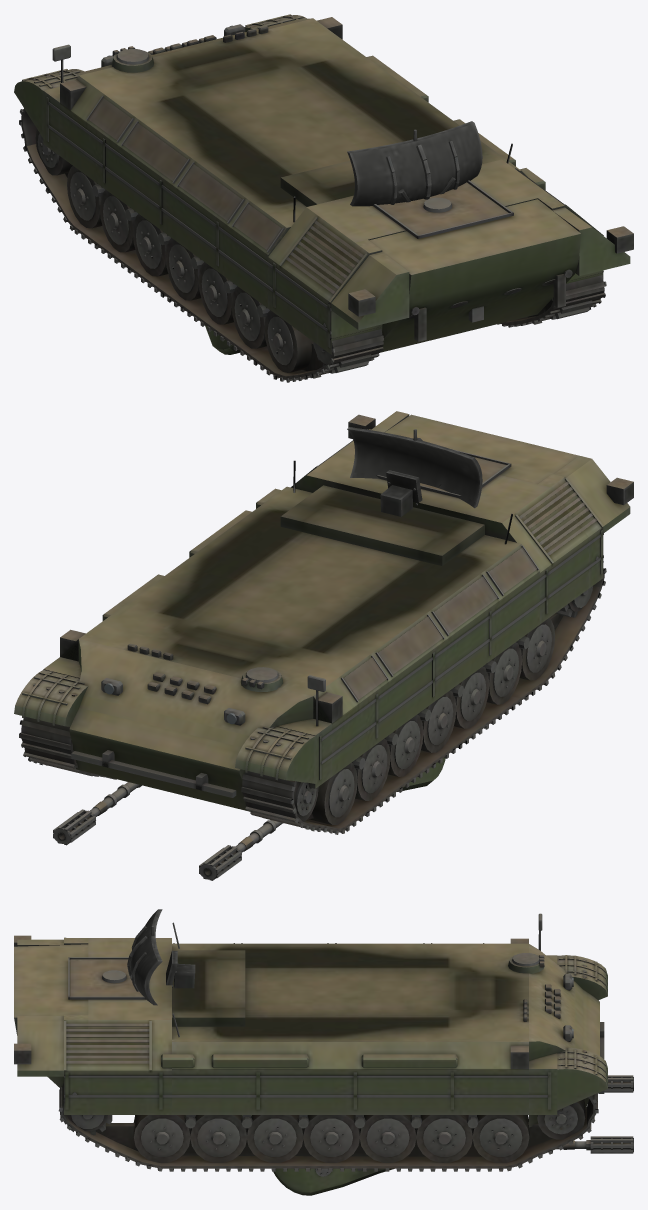
Rendered from gepard.glb.
3 renders of one model, top to bottom at view 1: azimuth 30°, elevation 25°; view 2: azimuth 150°, elevation 25°; view 3: azimuth 270°, elevation 25°, orthographic. The views are drawn at different scales.
Visible parts, largest first — view 1: body|GEP_body, body|GEP_dark, body|GEP_steel, radar|GEP_dark; view 2: body|GEP_body, body|GEP_dark, body|GEP_steel, radar|GEP_dark, cradle|GEP_steel; view 3: body|GEP_body, body|GEP_dark, body|GEP_steel, radar|GEP_dark, cradle|GEP_body, cradle|GEP_steel.
Boxes of the visible parts, box(x1,y1,x2,y2) form: body|GEP_body: box(14, 14, 630, 354); body|GEP_dark: box(20, 16, 633, 380); body|GEP_steel: box(19, 24, 606, 382); radar|GEP_dark: box(347, 121, 482, 206); body|GEP_body: box(14, 411, 630, 812); body|GEP_dark: box(20, 414, 633, 833); body|GEP_steel: box(19, 449, 606, 834); radar|GEP_dark: box(347, 427, 482, 516); cradle|GEP_steel: box(53, 782, 283, 880); body|GEP_body: box(14, 937, 607, 1127); body|GEP_dark: box(14, 935, 597, 1169); body|GEP_steel: box(58, 913, 604, 1171); radar|GEP_dark: box(127, 909, 195, 1005); cradle|GEP_body: box(273, 1168, 394, 1195); cradle|GEP_steel: box(315, 1075, 633, 1176).
Size of the model in its own units: 3.24 by 2.96 by 7.37.
Materials: 13 (13 with a texture image).
